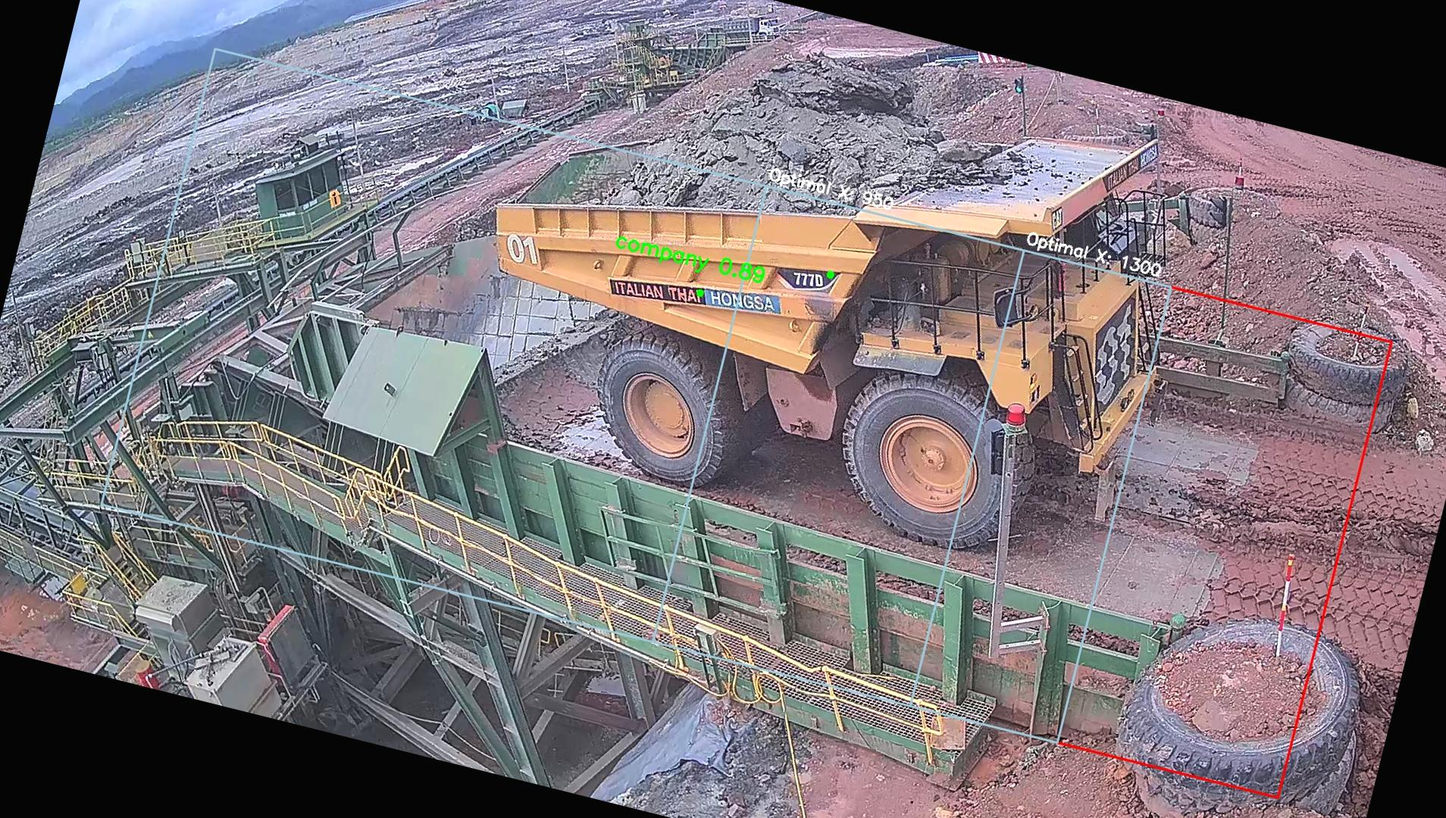company: (600, 254, 794, 337)
full_load: (615, 0, 981, 273)
mining_truck: (437, 0, 1250, 597)
tail_number: (496, 226, 554, 274)
truck_size: (770, 255, 841, 301)
